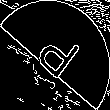P_SW: (27, 24, 83, 86)
